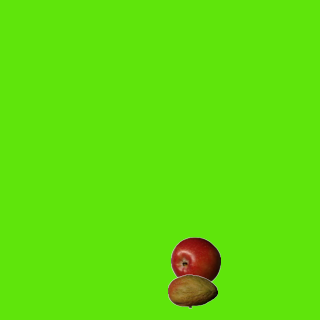Apple Braeburn: (170, 236, 220, 286)
Papaya: (167, 266, 217, 316)
